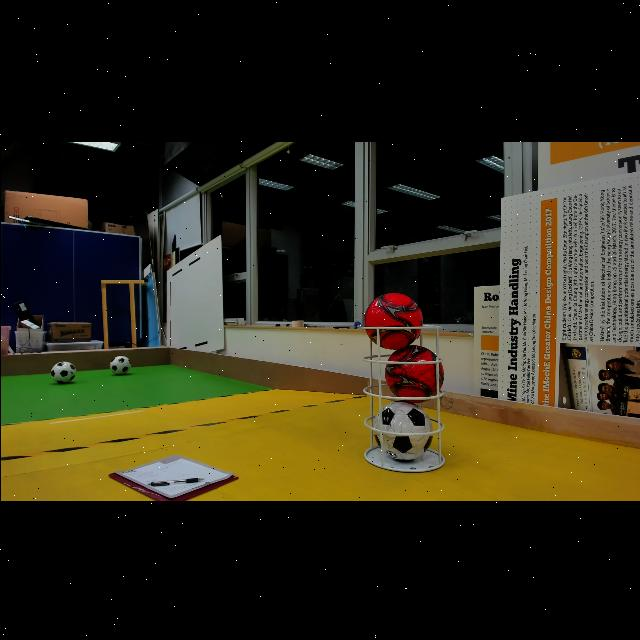R: (378, 341, 446, 403), (360, 288, 424, 350)
S: (358, 322, 448, 474)
